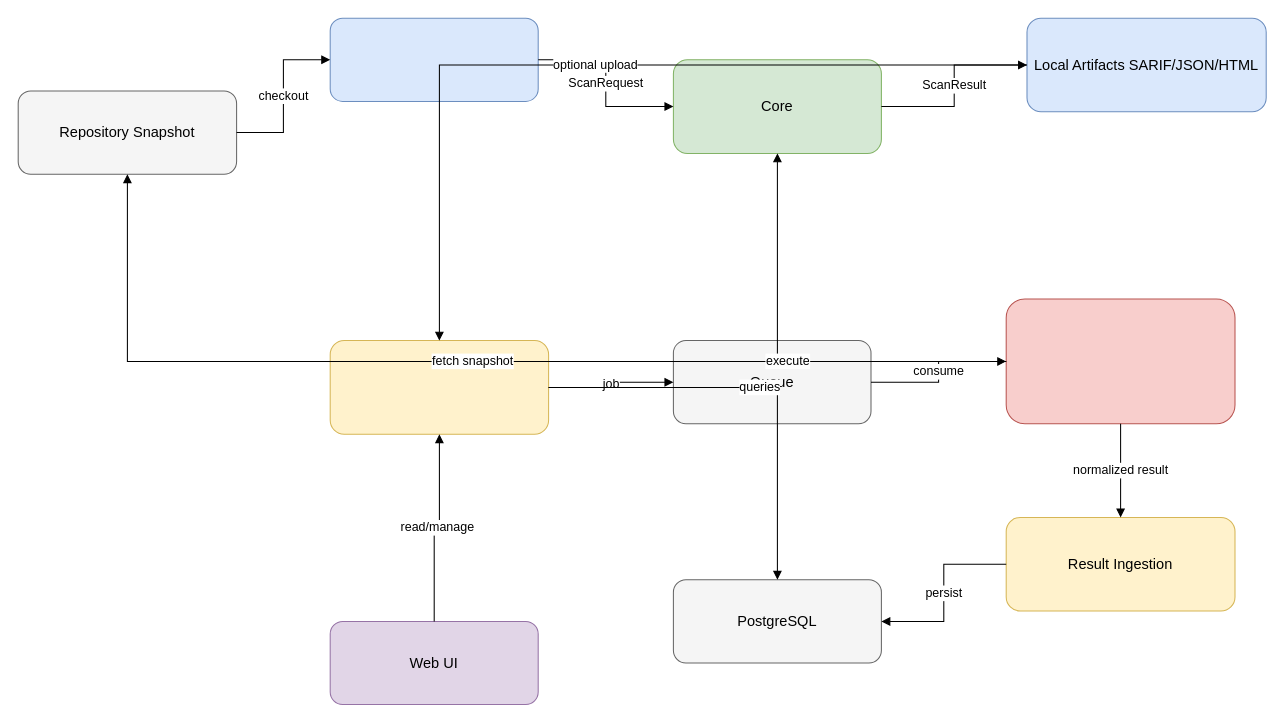
Some shapes in this 1284 by 723 pixel diagram are drawn without their labels. Each missing label, with the centre of its shape:
"Local CLI/CI" belongs at point (433, 59).
"Platform API" belongs at point (439, 387).
"Worker" belongs at point (1120, 361).
